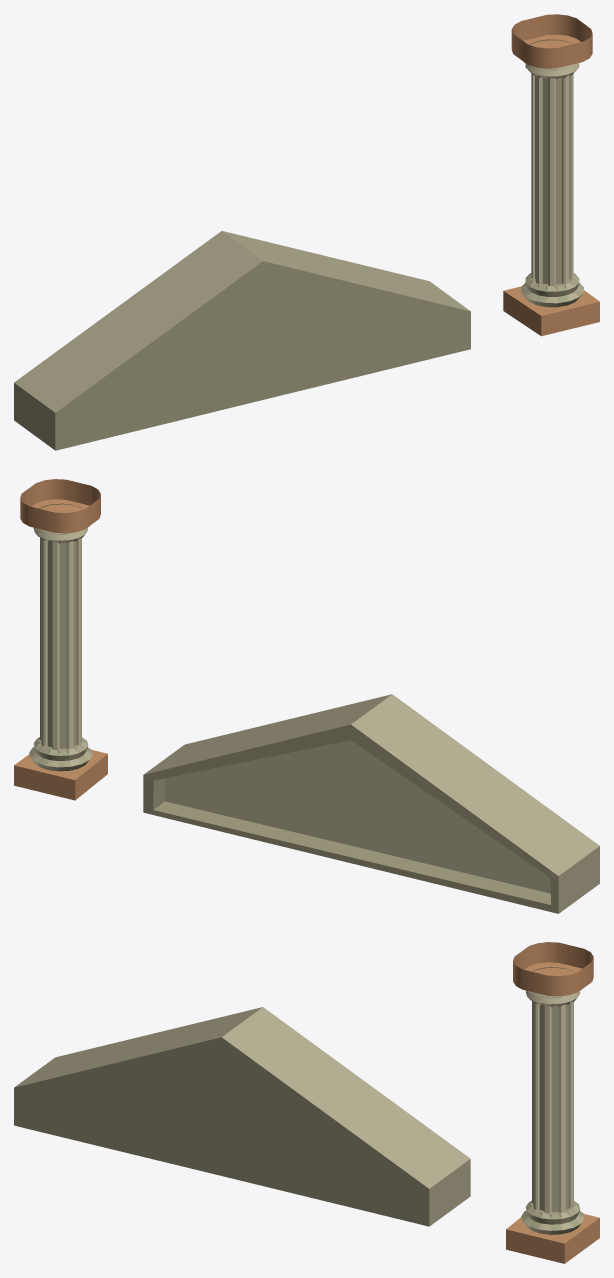
The model's file is PILIER ET TRIANGLE.fbx.
The picture shows the model from 3 angles, top to bottom: view 1: azimuth 30°, elevation 25°; view 2: azimuth 150°, elevation 25°; view 3: azimuth 330°, elevation 25°; orthographic projection.
Visible parts, largest first — view 1: TIANGLE.001, pilier.007, SOCLE.009, SOCLE.008; view 2: TIANGLE.001, pilier.007, SOCLE.009, SOCLE.008; view 3: TIANGLE.001, pilier.007, SOCLE.009, SOCLE.008.
Part boxes in pixels (x1,y1,x2,y2): TIANGLE.001: [14, 231, 470, 450]; pilier.007: [521, 39, 583, 307]; SOCLE.009: [511, 14, 592, 68]; SOCLE.008: [503, 286, 599, 336]; TIANGLE.001: [143, 694, 599, 913]; pilier.007: [29, 503, 92, 771]; SOCLE.009: [20, 479, 100, 533]; SOCLE.008: [14, 750, 107, 800]; TIANGLE.001: [14, 1007, 470, 1226]; pilier.007: [521, 967, 584, 1234]; SOCLE.009: [513, 942, 593, 996]; SOCLE.008: [506, 1214, 599, 1263].
Bounding box in the file's own units: 2937 × 1451 × 386.
